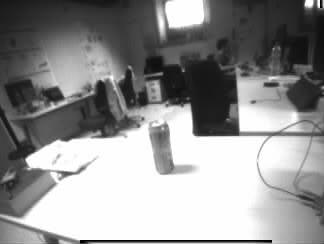Tin can: (151, 119, 173, 173)
